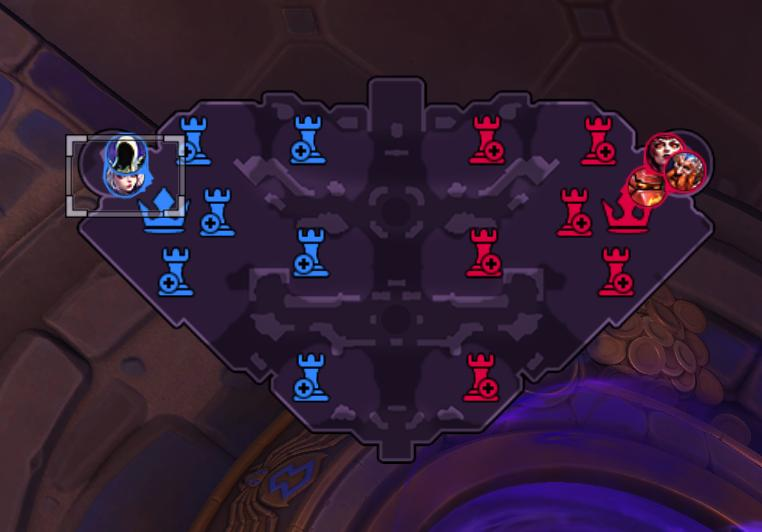blue nexus: (136, 185, 187, 233)
blue player: (105, 133, 147, 177), (103, 161, 150, 198)
blue tower: (156, 245, 195, 297), (291, 350, 330, 402), (288, 113, 327, 165), (291, 225, 329, 278), (198, 186, 236, 237), (175, 114, 212, 166)
red player: (662, 150, 706, 194), (625, 165, 666, 208), (644, 132, 684, 173)
red tower: (464, 226, 503, 278), (467, 113, 506, 165), (461, 351, 500, 402), (596, 245, 634, 297), (579, 114, 616, 167), (555, 186, 593, 237)
